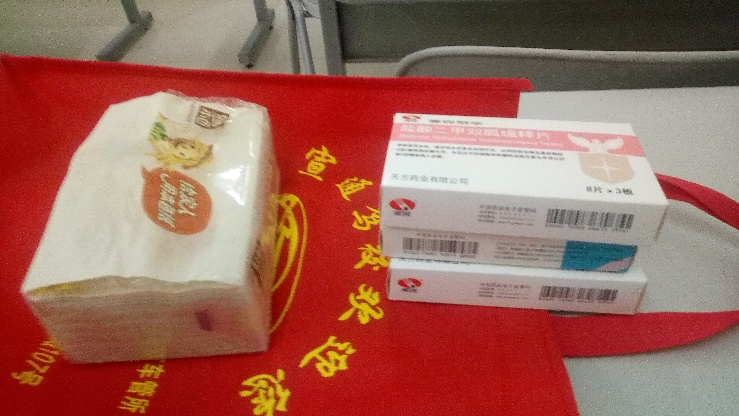pillbox: (383, 111, 656, 246), (392, 262, 639, 315), (378, 227, 634, 276)
